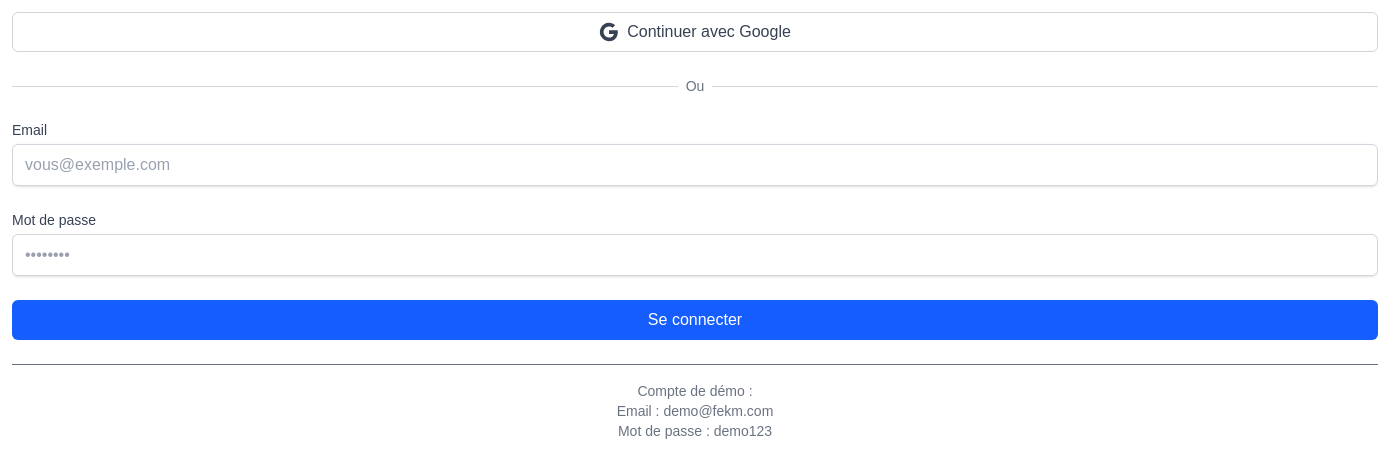
LoginForm Component › should show loading state during submission
// Remplir le formulaire avant de soumettre
In the field labelled "Email": (695, 165) [12,144,1378,186], type "test@example.com"
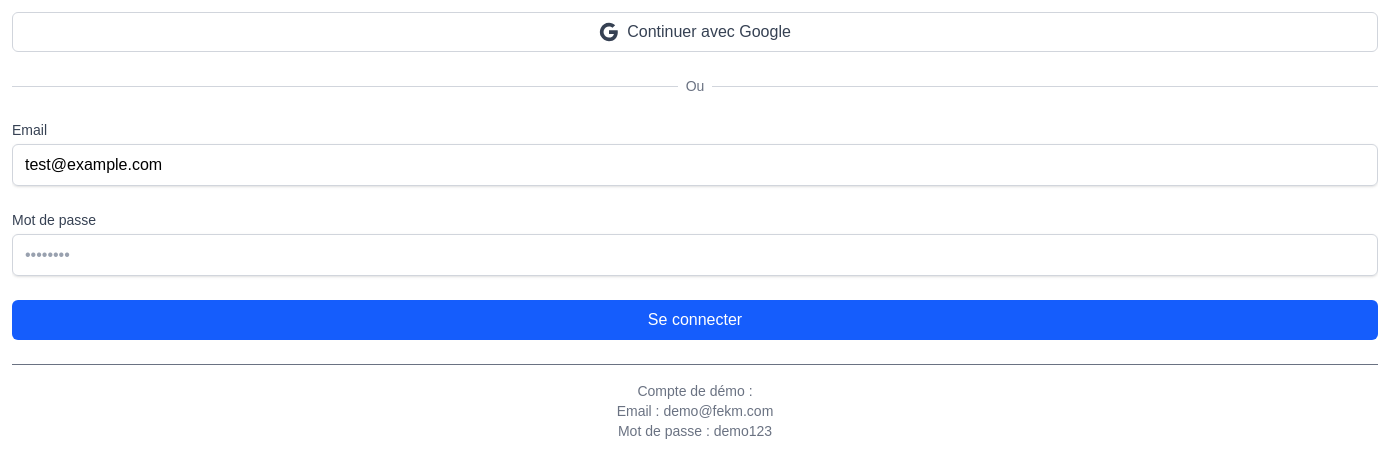
In the password field labelled "Mot de passe": (695, 255) [12,234,1378,276], type "password123"
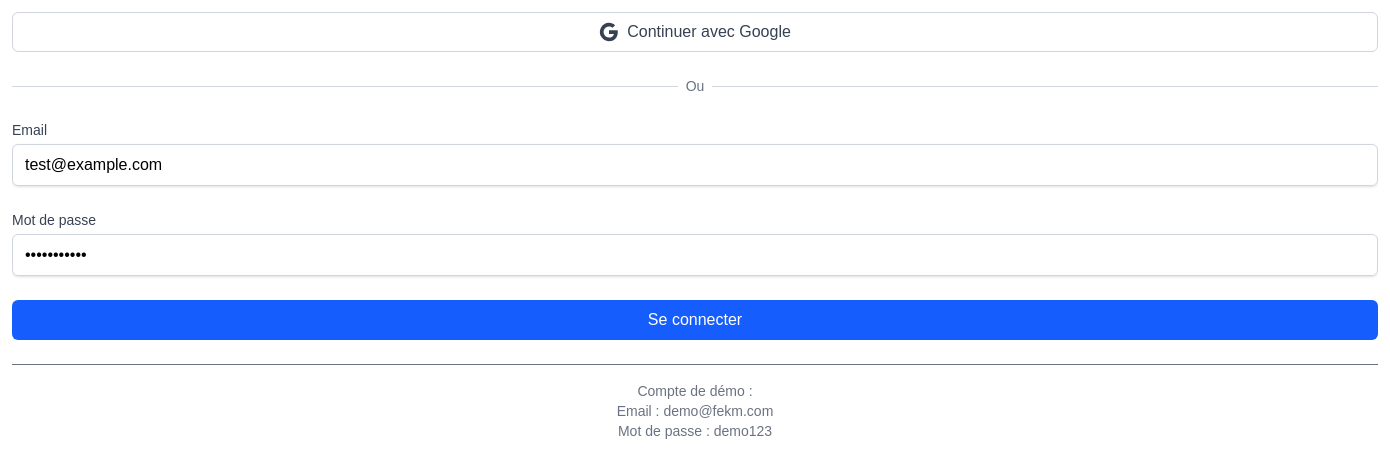
Click the button "Se connecter": click(695, 320) [12,300,1378,340]
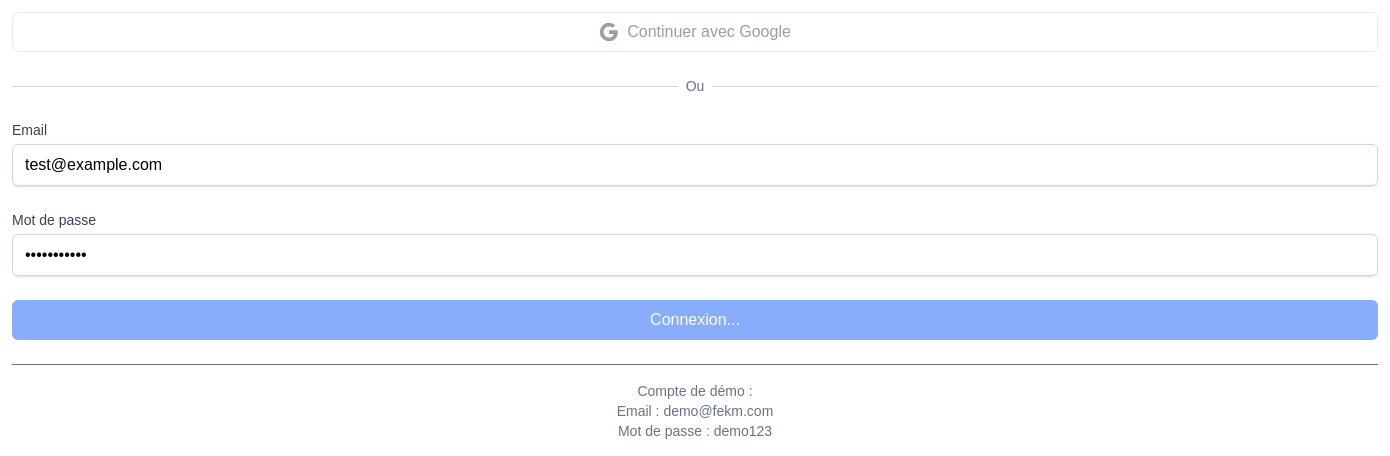
Result: the button "Connexion..." is shown at [12,300,1378,340]
